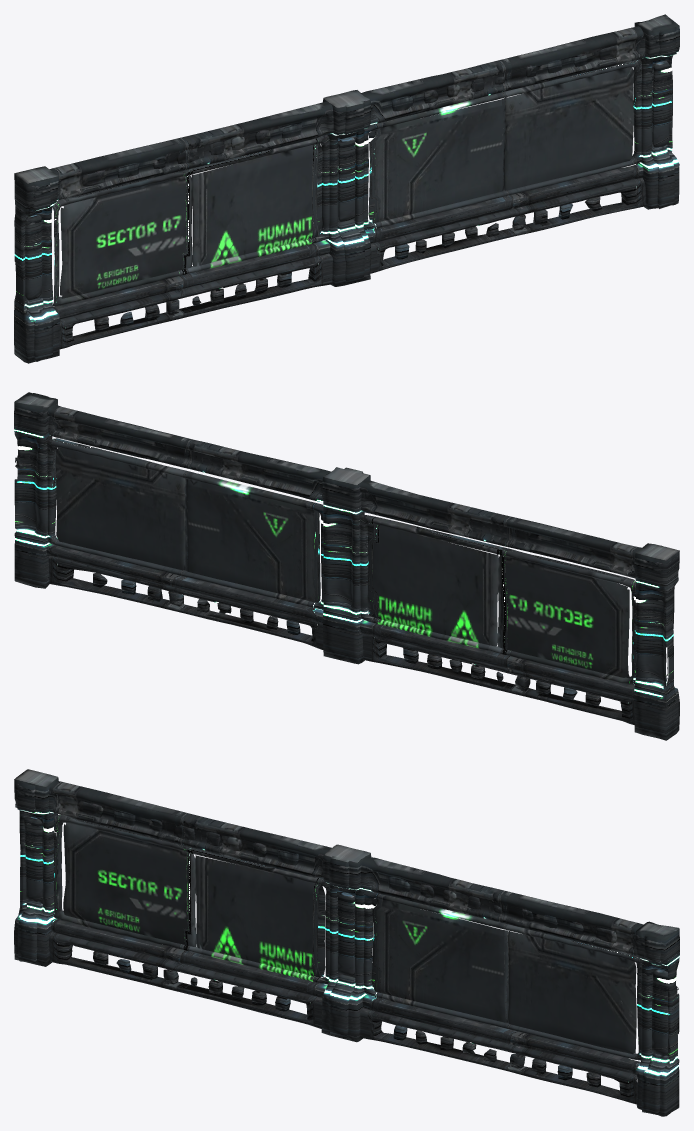
The model's file is wall.glb.
The picture shows the model from 3 angles, top to bottom: view 1: azimuth 30°, elevation 25°; view 2: azimuth 150°, elevation 25°; view 3: azimuth 330°, elevation 25°; orthographic projection.
Parts seen in each view (by area): view 1: Wall; view 2: Wall; view 3: Wall.
Part boxes in pixels (x1,y1,x2,y2): Wall: [14, 14, 679, 363]; Wall: [14, 392, 679, 740]; Wall: [14, 769, 679, 1116].
Bounding box in the file's own units: 1 × 0.2672 × 0.045.
1 material, 1 textured.
